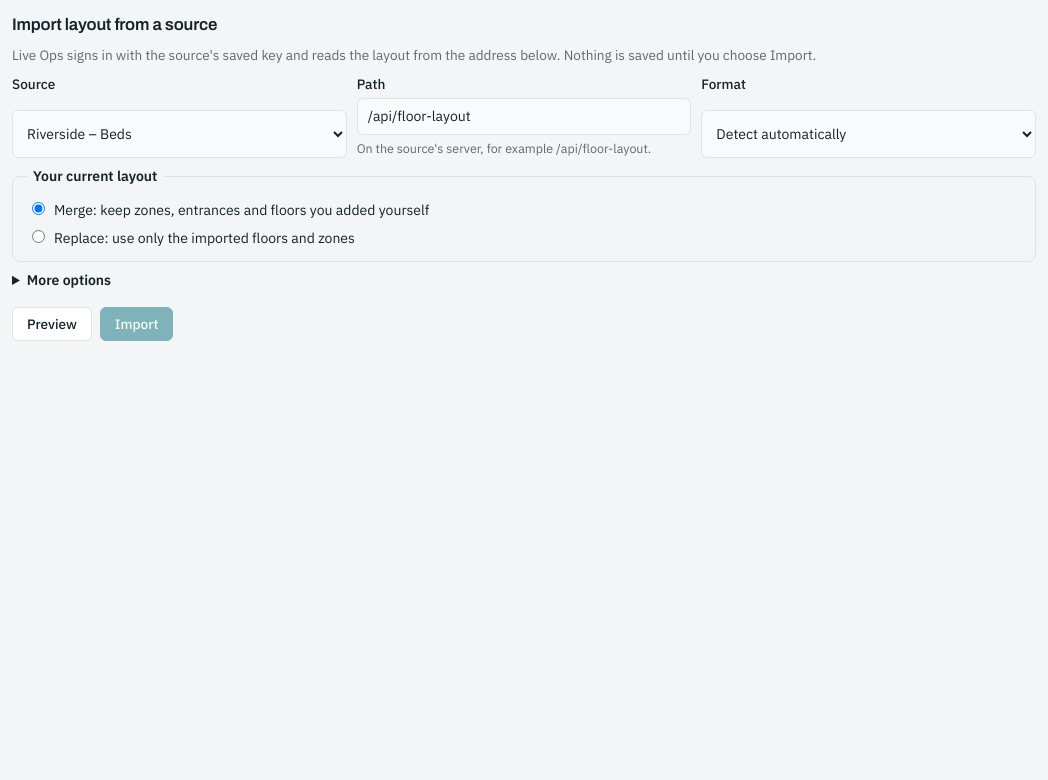
Test: warnings are listed and problems block the import
Click the button "Preview" at (52, 324), box [12,307,92,341]
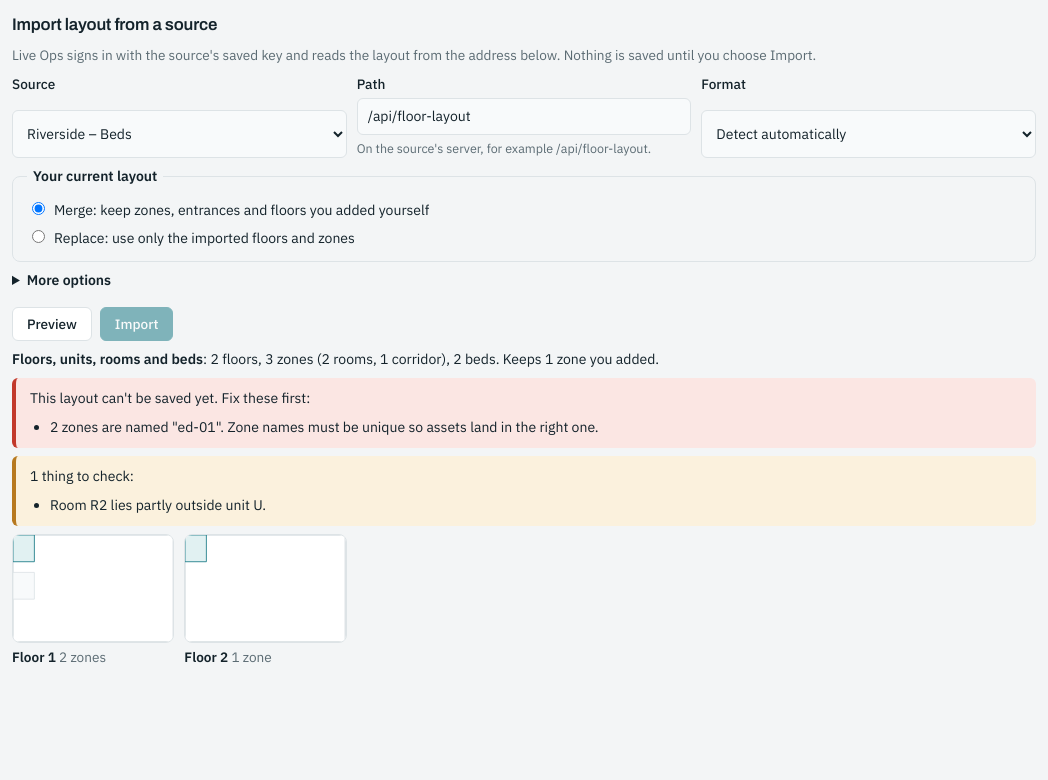
Expected: the button "Import" is disabled, [100,307,173,341]
Expected: the list item "Room R2 lies partly outside unit U." is shown, [50,496,266,514]
Expected: the text "Keeps 1 zone you added" is shown, [500,350,659,368]
